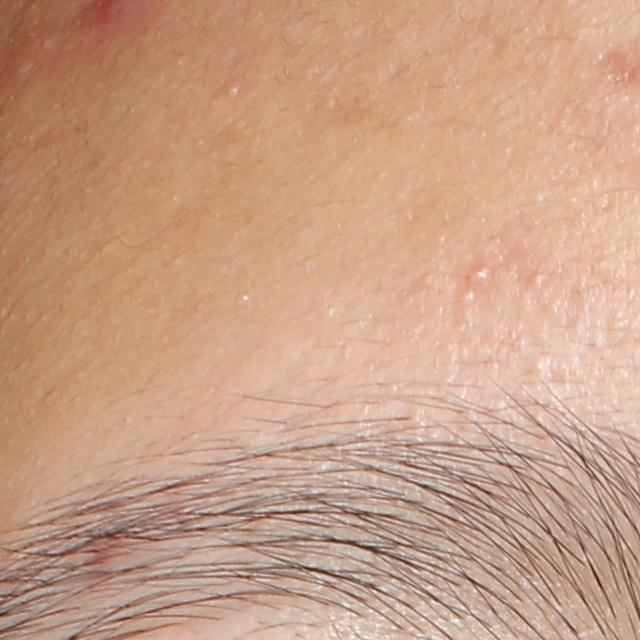comedo: (223, 83, 242, 101), (524, 271, 543, 289)
papule: (466, 263, 492, 289)
